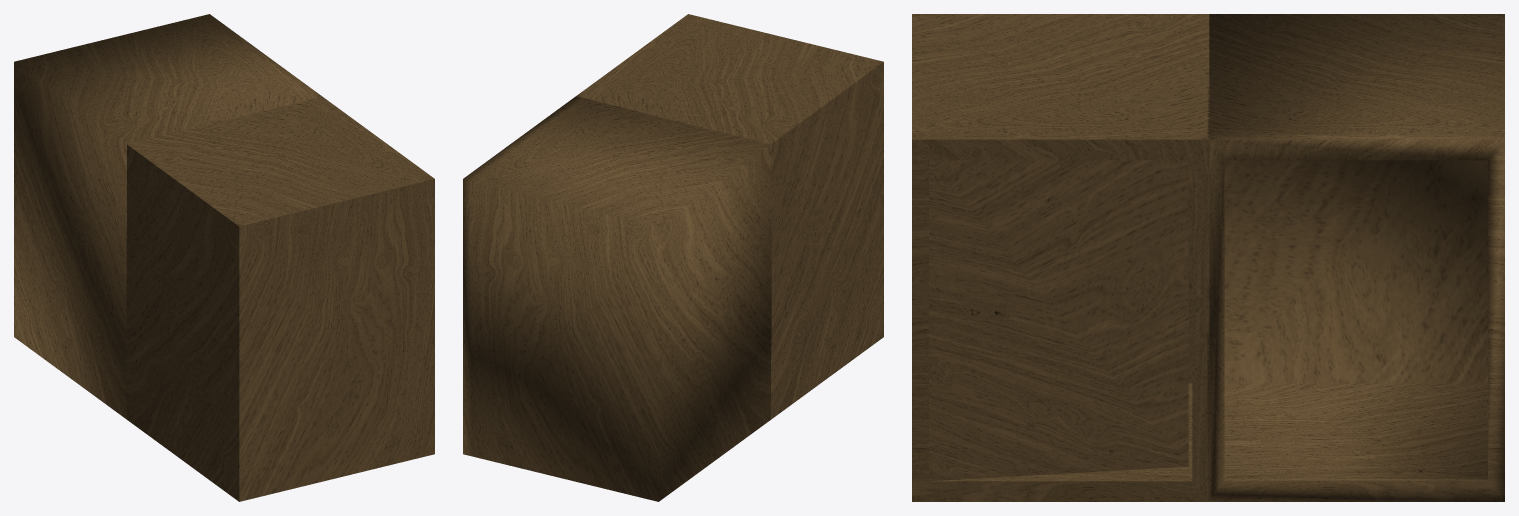
Rendered from Mueble.fbx.
3 views of the same model, side by side, from view 1: azimuth 30°, elevation 25°; view 2: azimuth 150°, elevation 25°; view 3: azimuth 270°, elevation 25° (orthographic). The views are drawn at different scales.
Parts seen in each view (by area): view 1: Mueble, Mueble.001; view 2: Mueble.001, Mueble; view 3: Mueble, Mueble.001.
Part boxes in pixels (<box>): Mueble: <box>126,96,434,501</box>; Mueble.001: <box>14,14,321,418</box>; Mueble.001: <box>463,96,771,501</box>; Mueble: <box>576,14,883,419</box>; Mueble: <box>912,14,1209,501</box>; Mueble.001: <box>1207,14,1504,501</box>.
Size of the model in its own units: 1497 by 2013 by 2985.
